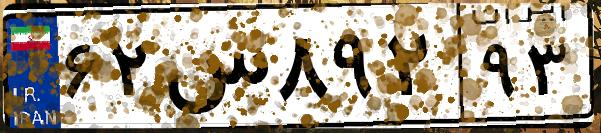2: (385, 28, 445, 110), (110, 28, 158, 98)
3: (525, 38, 570, 115)
6: (57, 26, 110, 100)
8: (270, 28, 330, 110)
9: (330, 28, 385, 110), (475, 38, 525, 113)
س: (158, 20, 270, 120)
